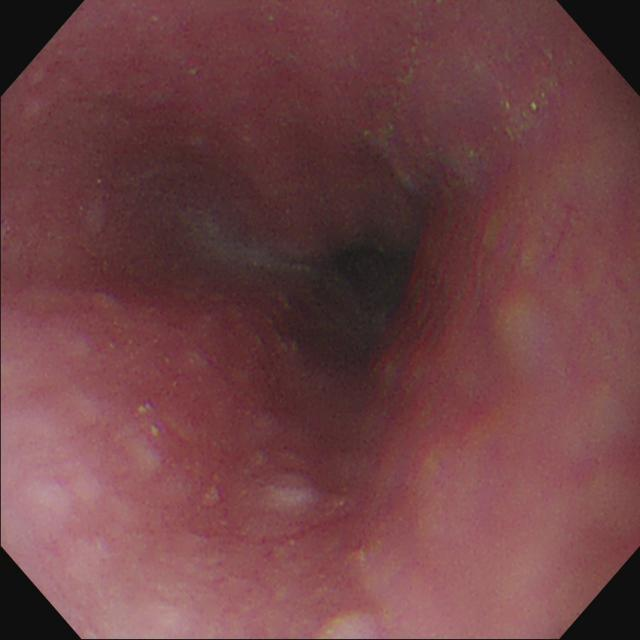E: (303, 250, 414, 375)
